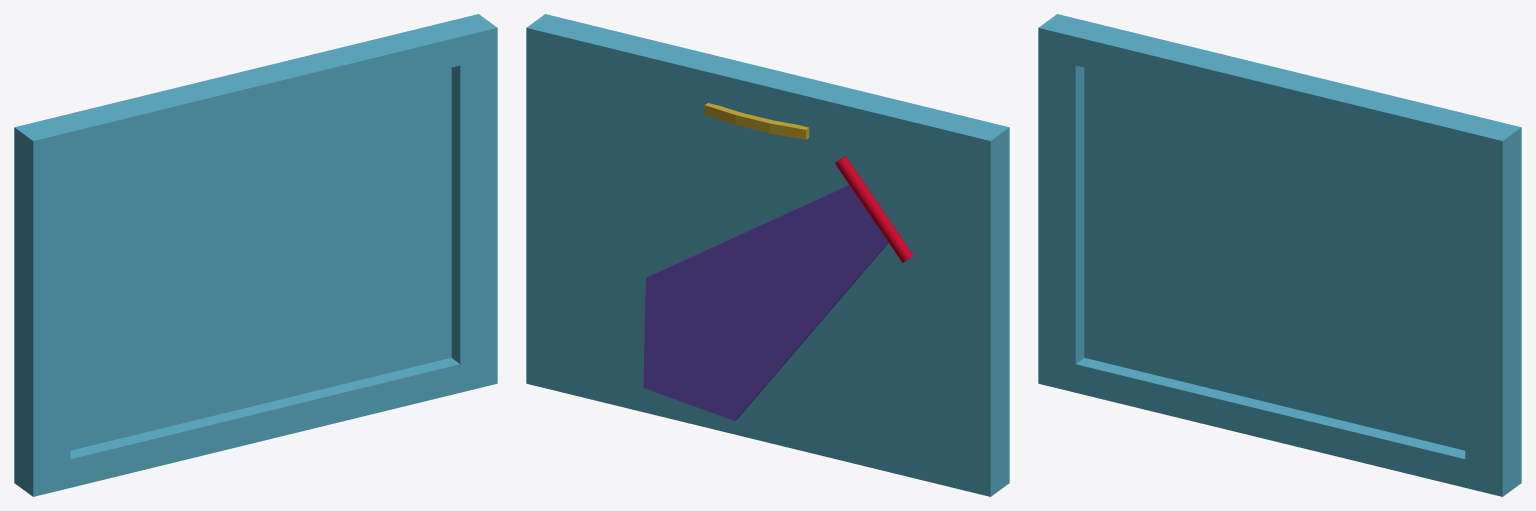
Rendered from horizontalFrame.fbx.
3 views of the same model, side by side, from view 1: azimuth 30°, elevation 25°; view 2: azimuth 150°, elevation 25°; view 3: azimuth 330°, elevation 25° (orthographic).
Parts seen in each view (by area): view 1: Cube.008; view 2: Cube.008, Cube.007, Cylinder.002, Cube.001; view 3: Cube.008.
Part boxes in pixels (x1,y1,x2,y2): Cube.008: (14, 14, 497, 496); Cube.008: (526, 14, 1009, 496); Cube.007: (643, 185, 888, 420); Cylinder.002: (834, 156, 913, 262); Cube.001: (704, 103, 809, 139); Cube.008: (1038, 14, 1521, 496).
Size of the model in its own units: 78.76 by 57.68 by 7.46.
